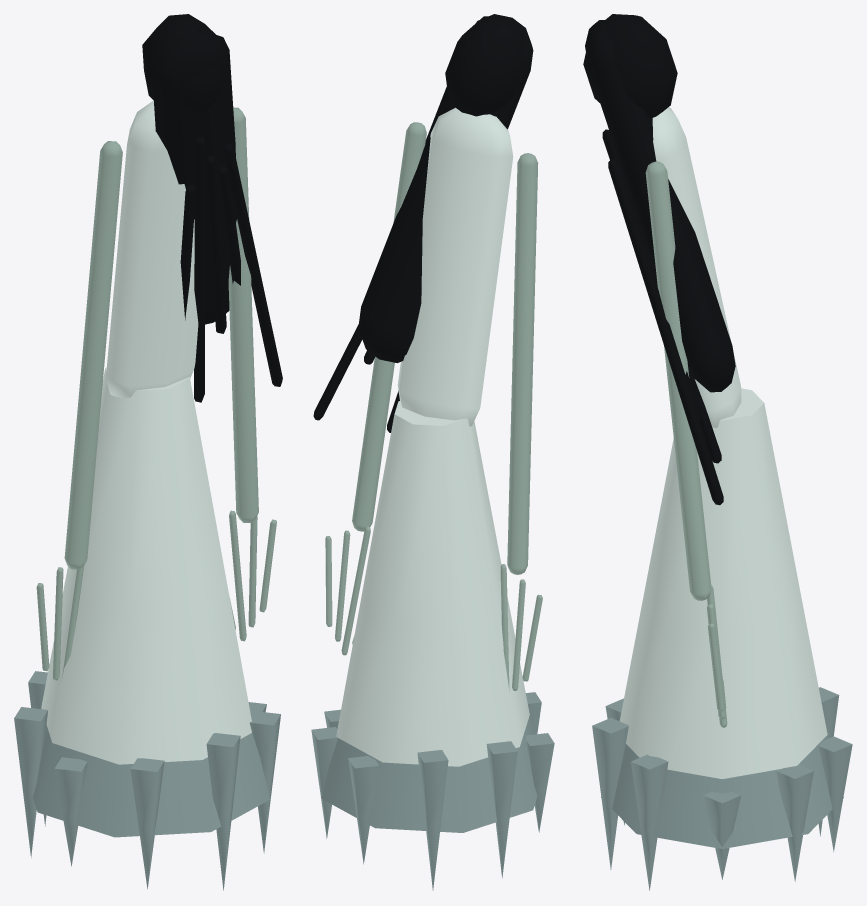
The model's file is figura_slide.glb.
The picture shows the model from 3 angles, left to right: view 1: azimuth 30°, elevation 25°; view 2: azimuth 150°, elevation 25°; view 3: azimuth 270°, elevation 25°; orthographic projection. The views are drawn at different scales.
Visible parts, largest first — view 1: _MeshInstance3D_5862_29, _MeshInstance3D_5873_18, _MeshInstance3D_5863_28, _MeshInstance3D_5884_9, _MeshInstance3D_5877_15, _MeshInstance3D_5890_4, _MeshInstance3D_5876_16, _MeshInstance3D_5882_10, _MeshInstance3D_5879_13, _MeshInstance3D_5866_25, _MeshInstance3D_5869_22, _MeshInstance3D_5867_24 (+12 smaller); view 2: _MeshInstance3D_5862_29, _MeshInstance3D_5873_18, _MeshInstance3D_5863_28, _MeshInstance3D_5877_15, _MeshInstance3D_5884_9, _MeshInstance3D_5876_16, _MeshInstance3D_5890_4, _MeshInstance3D_5870_21, _MeshInstance3D_5869_22, _MeshInstance3D_5871_20, _MeshInstance3D_5868_23, _MeshInstance3D_5872_19 (+7 smaller); view 3: _MeshInstance3D_5862_29, _MeshInstance3D_5877_15, _MeshInstance3D_5863_28, _MeshInstance3D_5890_4, _MeshInstance3D_5876_16, _MeshInstance3D_5873_18, _MeshInstance3D_5882_10, _MeshInstance3D_5866_25, _MeshInstance3D_5865_26, _MeshInstance3D_5872_19, _MeshInstance3D_5871_20, _MeshInstance3D_5864_27 (+3 smaller).
Boxes of the visible parts, x1,y1,x2,y2 form: _MeshInstance3D_5862_29: (41, 367, 251, 764); _MeshInstance3D_5873_18: (105, 100, 198, 397); _MeshInstance3D_5863_28: (33, 708, 270, 837); _MeshInstance3D_5884_9: (64, 141, 122, 569); _MeshInstance3D_5877_15: (152, 29, 236, 324); _MeshInstance3D_5890_4: (228, 107, 258, 522); _MeshInstance3D_5876_16: (142, 14, 220, 111); _MeshInstance3D_5882_10: (223, 143, 282, 386); _MeshInstance3D_5879_13: (194, 136, 205, 402); _MeshInstance3D_5866_25: (206, 733, 240, 890); _MeshInstance3D_5869_22: (14, 707, 47, 857); _MeshInstance3D_5867_24: (130, 758, 164, 889); _MeshInstance3D_5862_29: (336, 401, 529, 766); _MeshInstance3D_5873_18: (397, 107, 513, 426); _MeshInstance3D_5863_28: (321, 715, 537, 832); _MeshInstance3D_5877_15: (358, 14, 533, 363); _MeshInstance3D_5884_9: (507, 153, 538, 574); _MeshInstance3D_5876_16: (445, 16, 524, 116); _MeshInstance3D_5890_4: (352, 122, 426, 531); _MeshInstance3D_5870_21: (417, 750, 448, 890); _MeshInstance3D_5869_22: (486, 741, 517, 878); _MeshInstance3D_5871_20: (348, 756, 379, 864); _MeshInstance3D_5868_23: (525, 733, 554, 832); _MeshInstance3D_5872_19: (311, 727, 337, 838); _MeshInstance3D_5862_29: (619, 388, 827, 779); _MeshInstance3D_5877_15: (585, 20, 735, 392); _MeshInstance3D_5863_28: (601, 735, 843, 848); _MeshInstance3D_5890_4: (645, 161, 711, 600); _MeshInstance3D_5876_16: (583, 14, 677, 117); _MeshInstance3D_5873_18: (652, 107, 741, 428); _MeshInstance3D_5882_10: (608, 159, 723, 505); _MeshInstance3D_5866_25: (592, 718, 628, 869); _MeshInstance3D_5865_26: (631, 754, 668, 890); _MeshInstance3D_5872_19: (776, 764, 813, 881); _MeshInstance3D_5871_20: (818, 736, 852, 852); _MeshInstance3D_5864_27: (703, 791, 740, 879).
Size of the model in its own units: 0.6555 by 2.21 by 0.6428.
